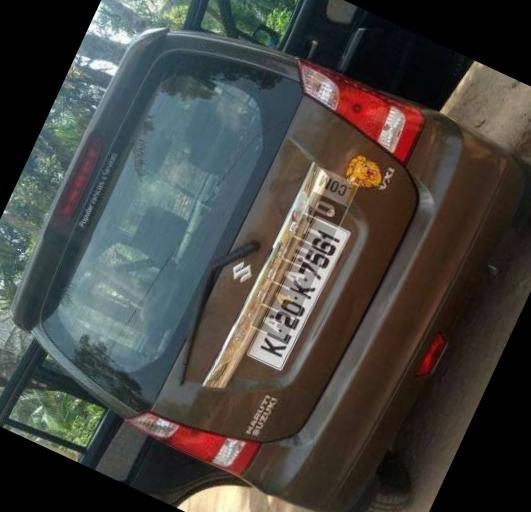plate: (230, 194, 370, 388)
